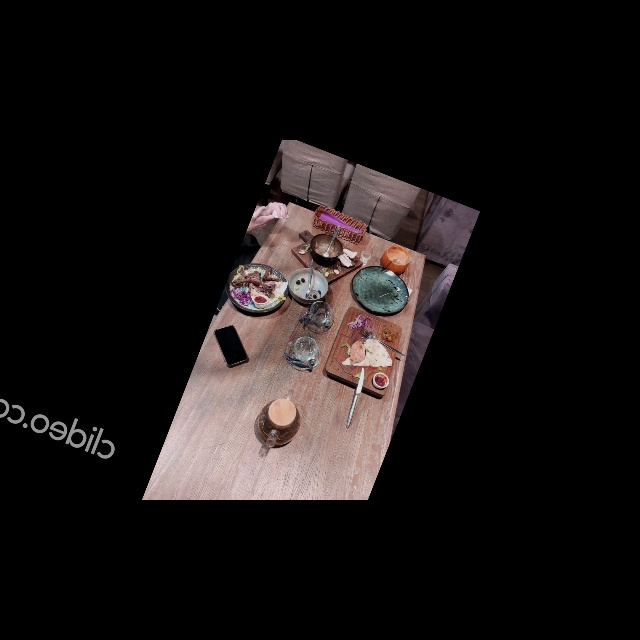Том Ям(пустая тарелка): (284, 222, 368, 294)
закуска(пустая тарелка): (322, 305, 411, 398)
мясо(пустая тарелка): (219, 254, 295, 323)
салат цезарь: (283, 263, 333, 310)
салат(пустая тарелка): (344, 259, 417, 323)
сырный суп(пустая тарелка): (378, 242, 414, 278)
